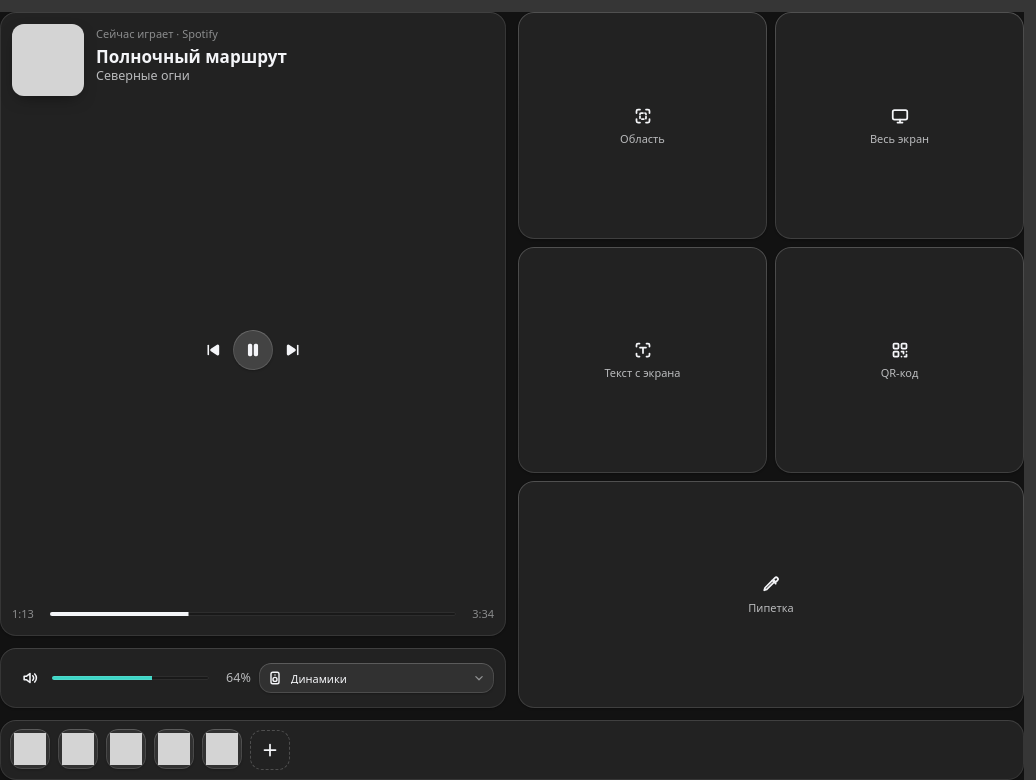
Test: Home tab: volume › mute toggles, shows «Без звука», and moving the slider un-mutes
This screenshot has width=1036, height=780.
Check: the text "Полночный маршрут" is shown, box [96,44,287,68]
Check: the slider named "Громкость" holds "64", box [52,668,209,688]
Click the button named "Выключить звук" at (30, 678), box [16,664,44,692]
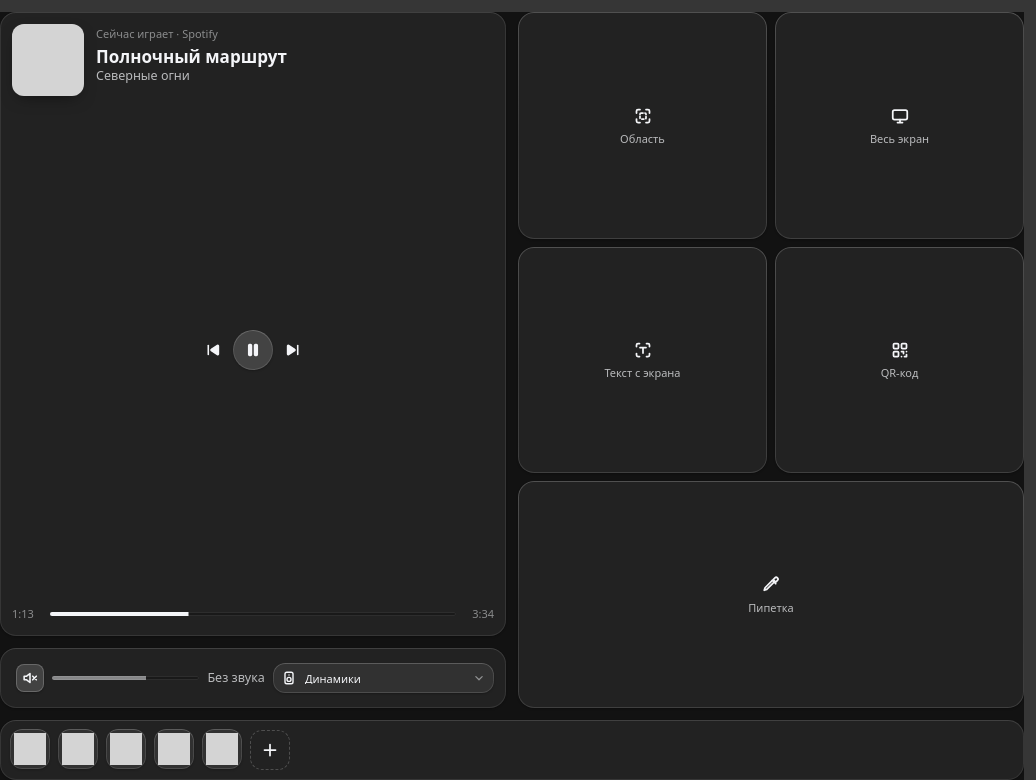
Check: the text "Без звука" is shown, box [207,669,265,687]
Set the slider named "Громкость" to "50" at (126, 678), box [52,668,199,688]
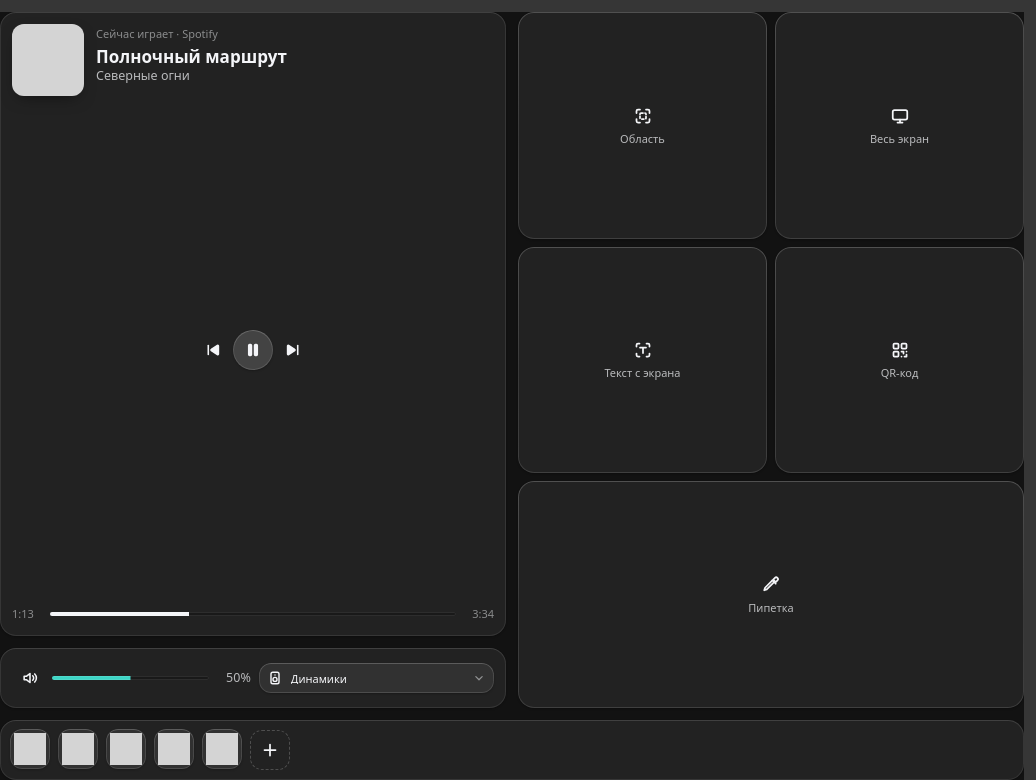
Check: the text "Без звука" is gone
